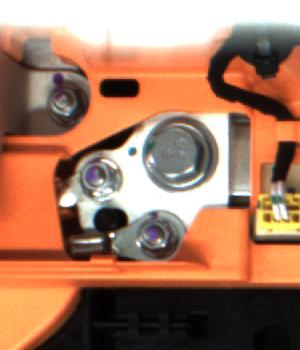nut_b: (137, 115, 225, 202)
